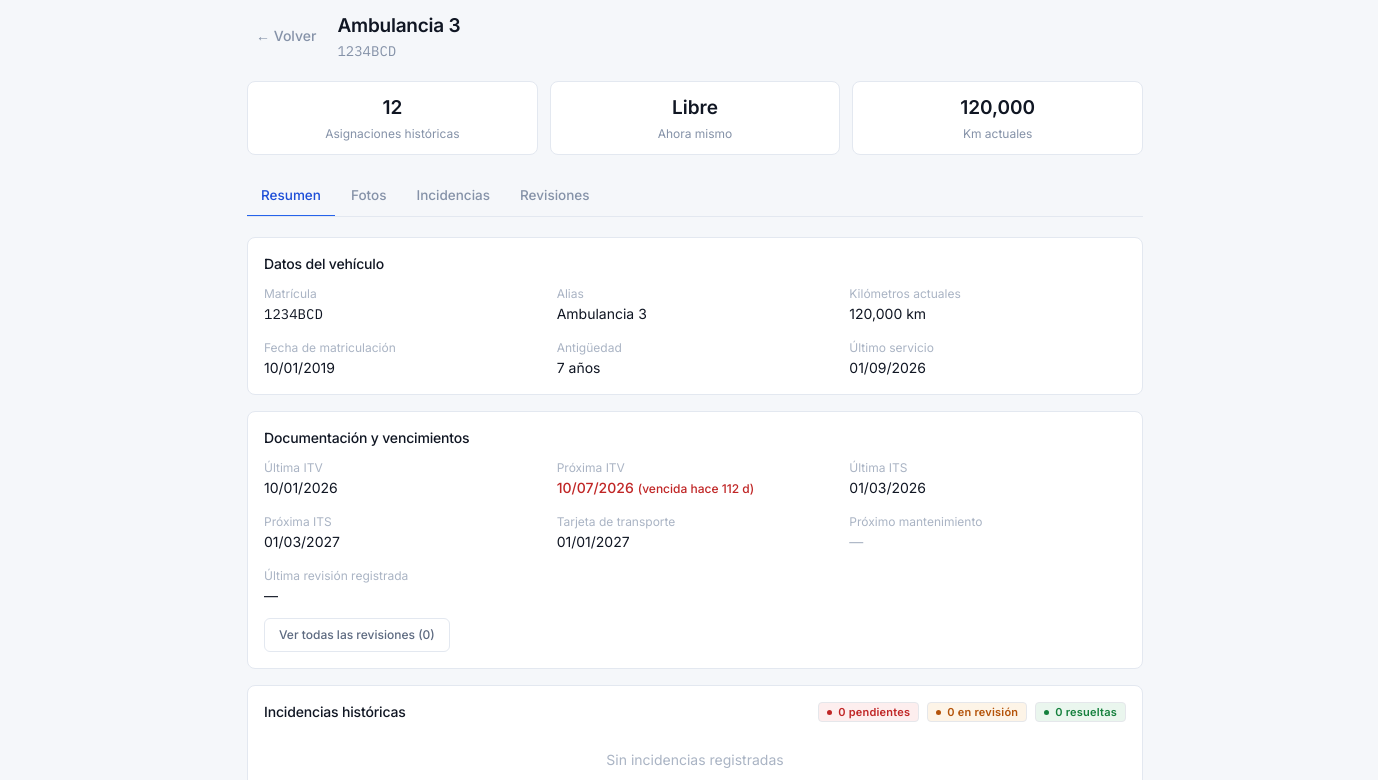
Test case: VehicleHistory · navegación › sin pantalla anterior (un enlace, un aviso), «← Volver» lleva al listado
The width and height of the screenshot is (1378, 780).
Expected: the heading "Ambulancia 3" is shown, [337, 12, 460, 40]
What coordinates should you click on to do the following:
click the button "← Volver"
I would click on:
 (286, 36)
Its box is [247, 19, 325, 53].
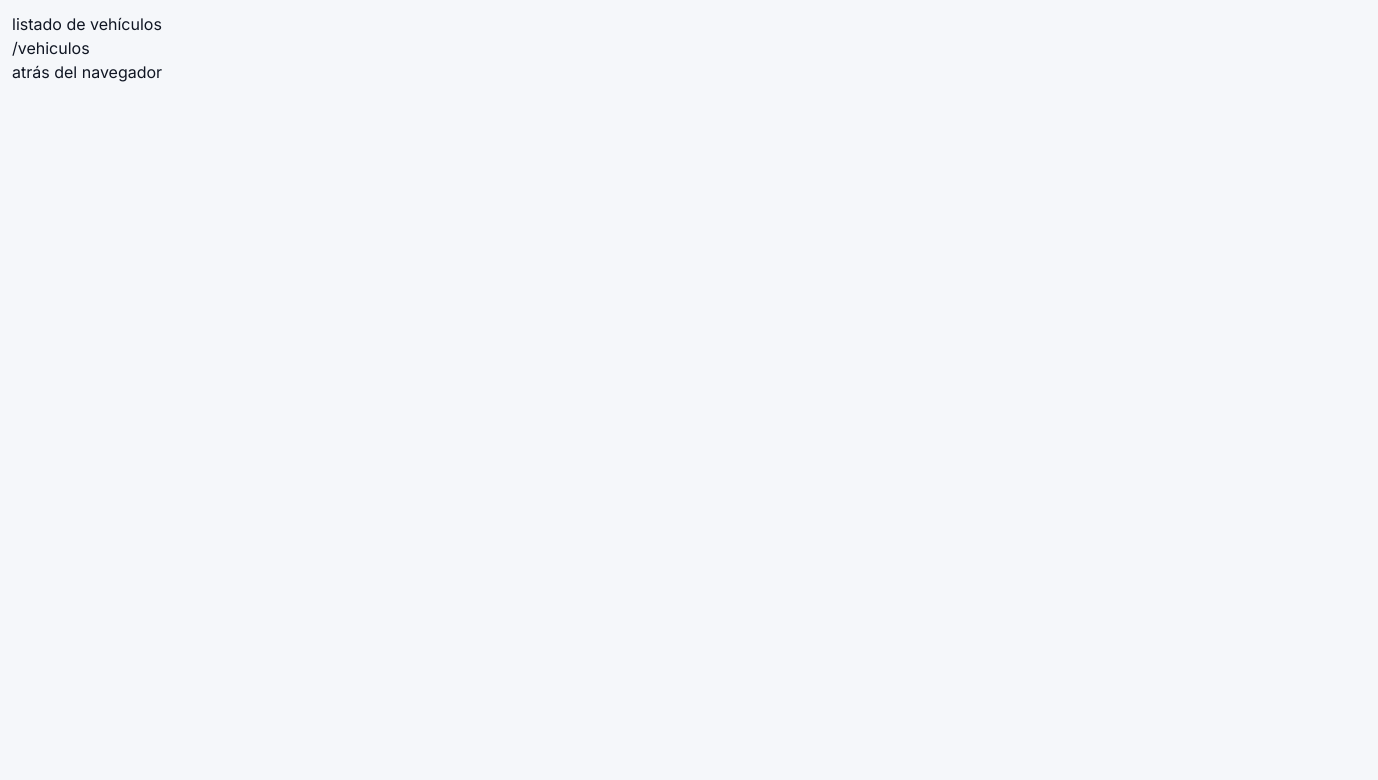
Expected: the text "listado de vehículos" is shown, [12, 14, 162, 34]
